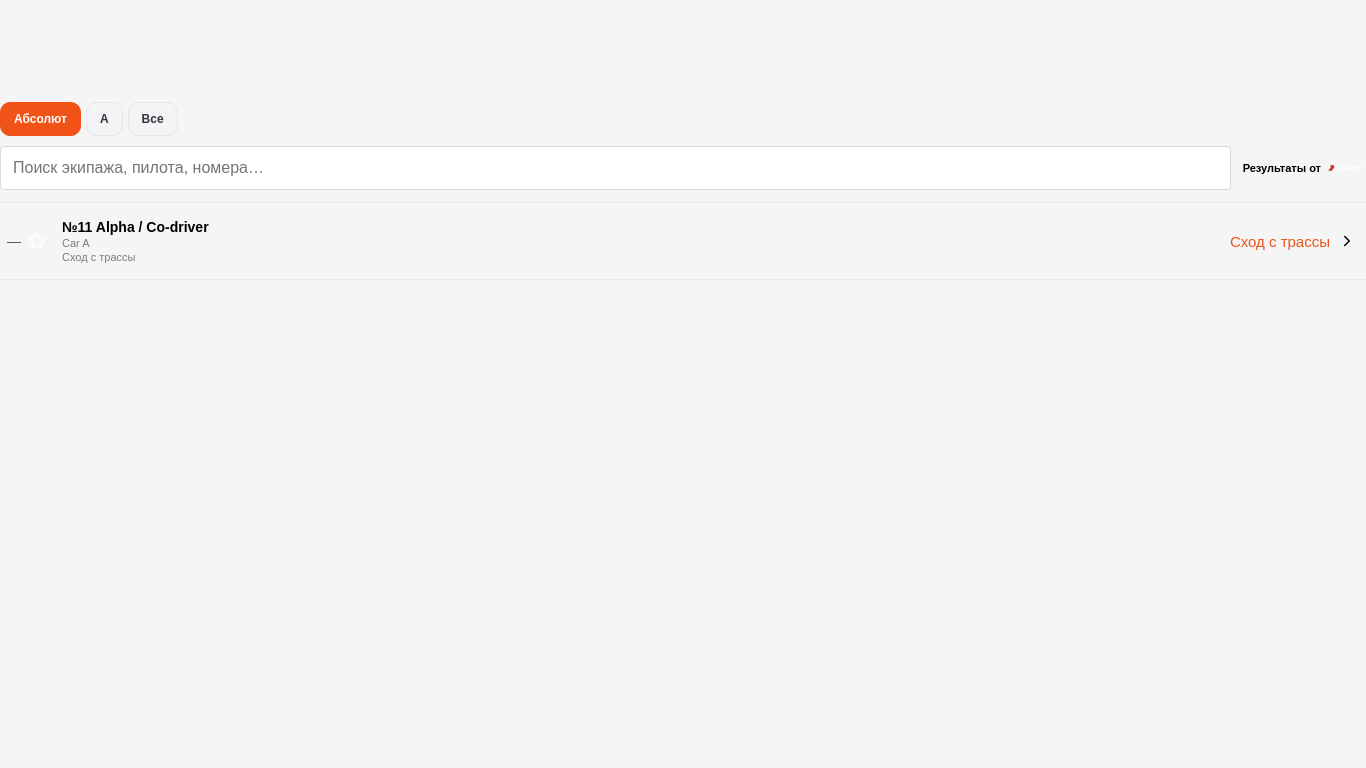
Scenario: inline results screen › removes crew names and stage number from the retirement reason everywhere
Expected: the text "Сход с трассы" is shown 2 times, left=62, top=251, right=135, bottom=263; left=1230, top=232, right=1330, bottom=250
Click the button with aria-label "Открыть результаты экипажа Alpha": (152,227) left=58, top=203, right=1365, bottom=279
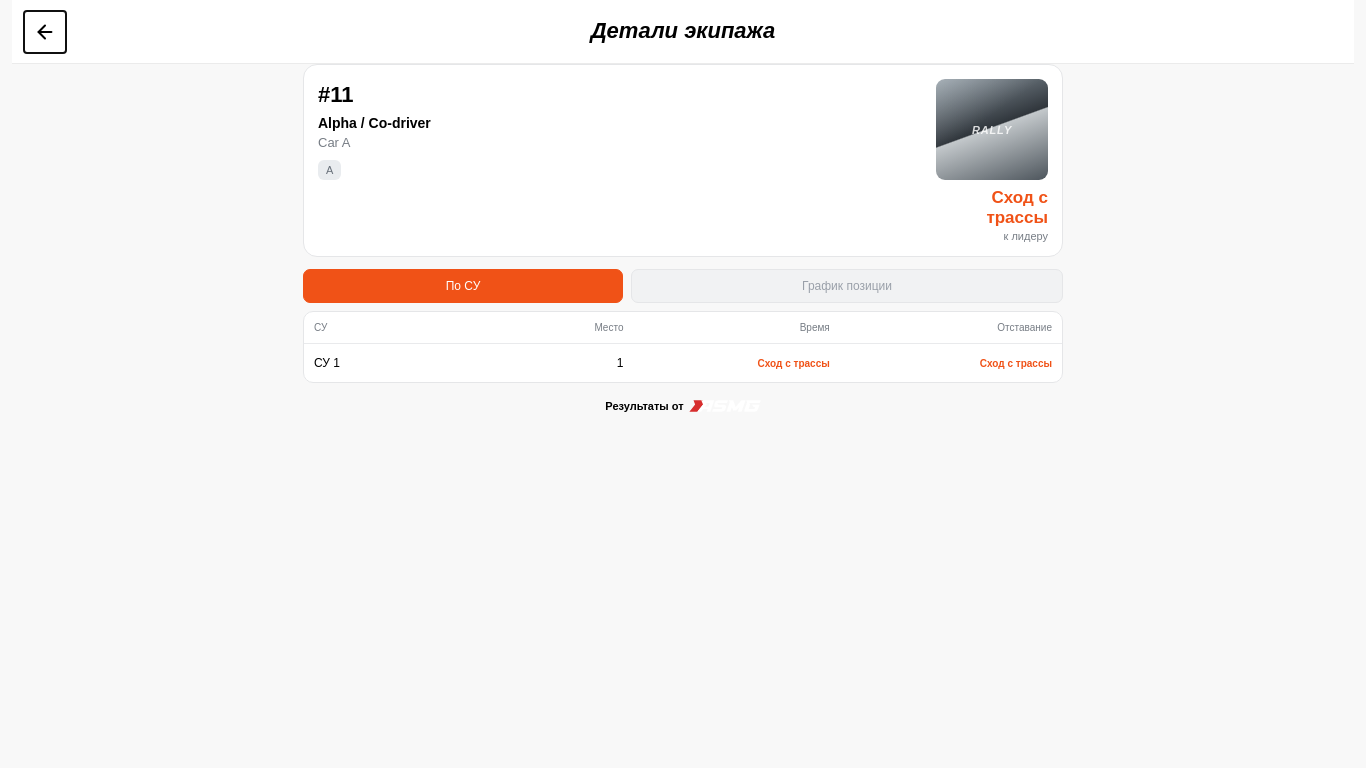
Now the text "Сход с трассы" is shown 3 times, box left=986, top=188, right=1048, bottom=227; left=758, top=358, right=830, bottom=368; left=980, top=358, right=1052, bottom=368
